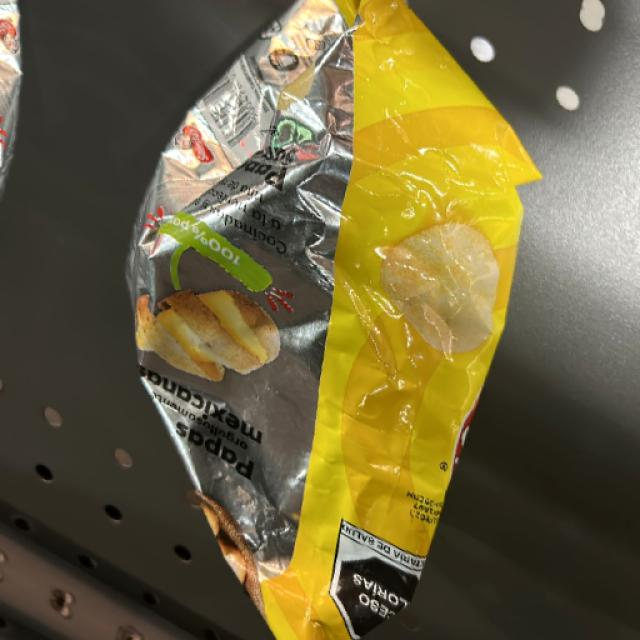sabritasOriginal: (232, 20, 523, 614)
